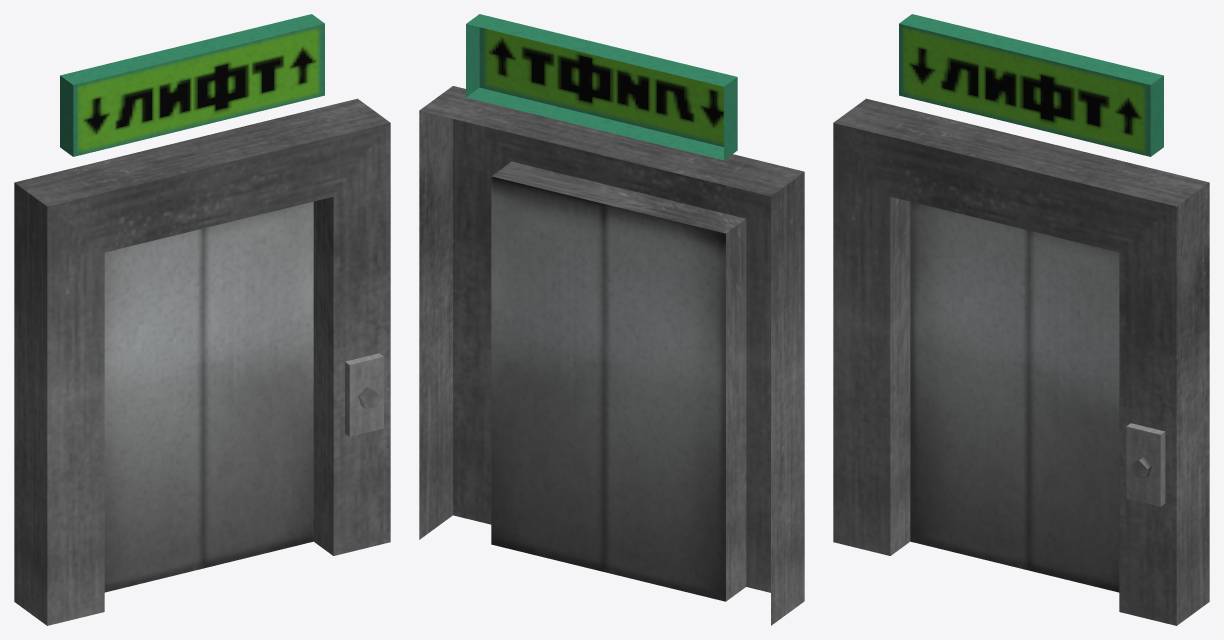
The model's file is elevator.fbx.
3 views of the same model, side by side, from view 1: azimuth 30°, elevation 25°; view 2: azimuth 150°, elevation 25°; view 3: azimuth 330°, elevation 25° (orthographic). The views are drawn at different scales.
Visible parts, largest first — view 1: elevator, elevator_sign; view 2: elevator, elevator_sign; view 3: elevator, elevator_sign.
Part boxes in pixels (x1=…): elevator: x1=14, y1=98, x2=390, y2=625; elevator_sign: x1=60, y1=14, x2=324, y2=156; elevator: x1=419, y1=86, x2=804, y2=625; elevator_sign: x1=466, y1=14, x2=737, y2=160; elevator: x1=833, y1=98, x2=1209, y2=625; elevator_sign: x1=899, y1=14, x2=1163, y2=156.
Size of the model in its own units: 30 by 43 by 6.4.
